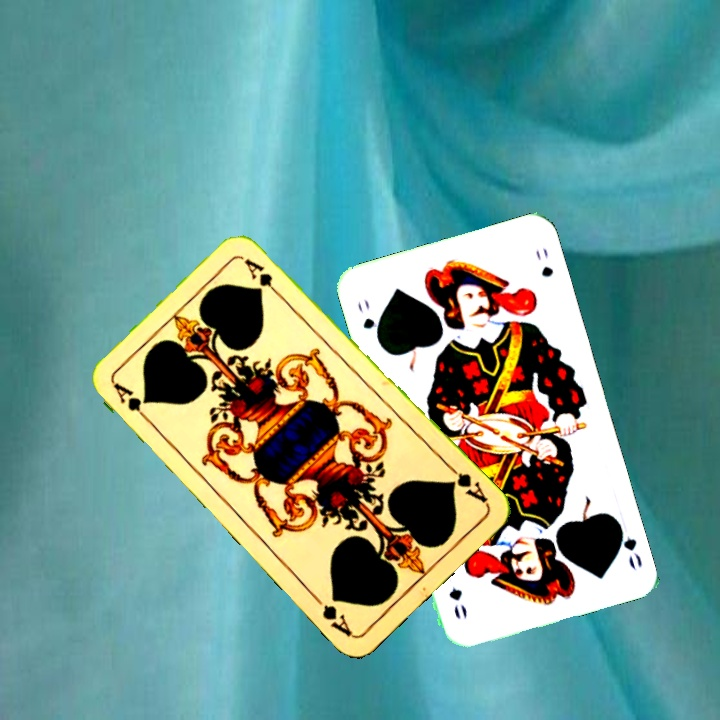GA: (443, 460, 491, 506), (109, 378, 154, 426)
GO: (612, 516, 645, 573), (353, 296, 383, 345)
